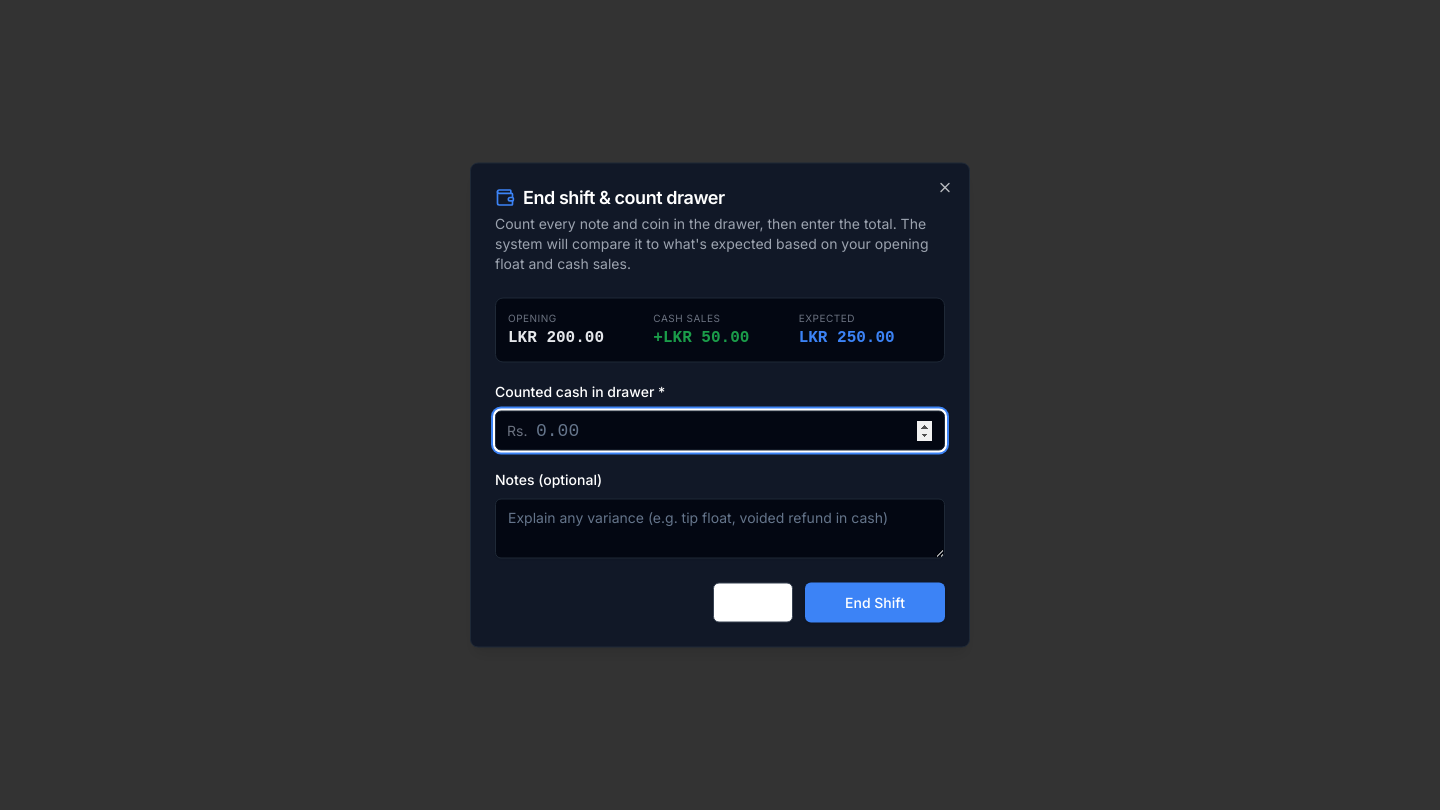
EndShiftModal › shows 'short by' when counted is below expected
Type "240" into the number field labelled "Counted cash in drawer *" at (720, 430), box left=495, top=410, right=945, bottom=450
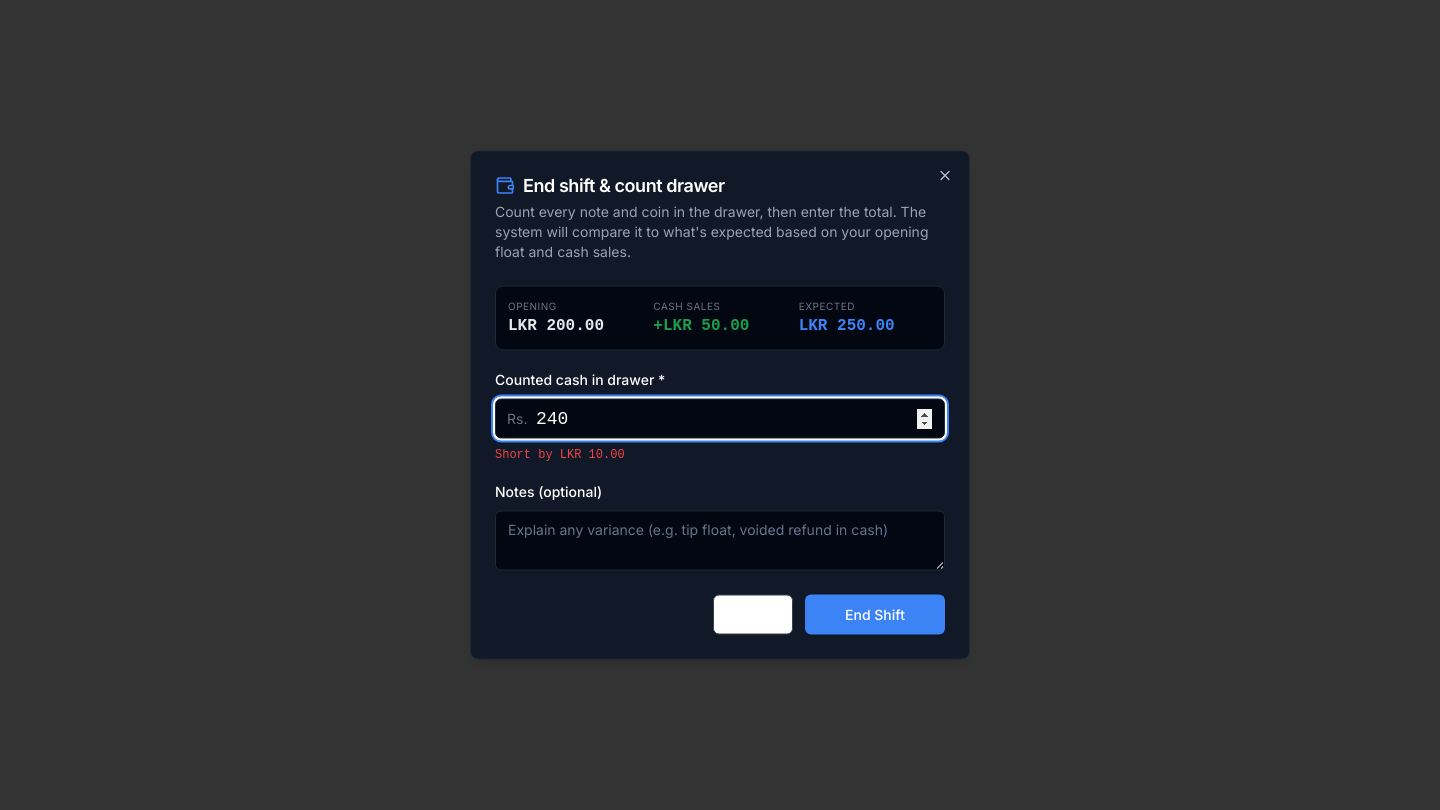
Now the text "Short by LKR 10.00" is shown, box left=495, top=448, right=625, bottom=462
